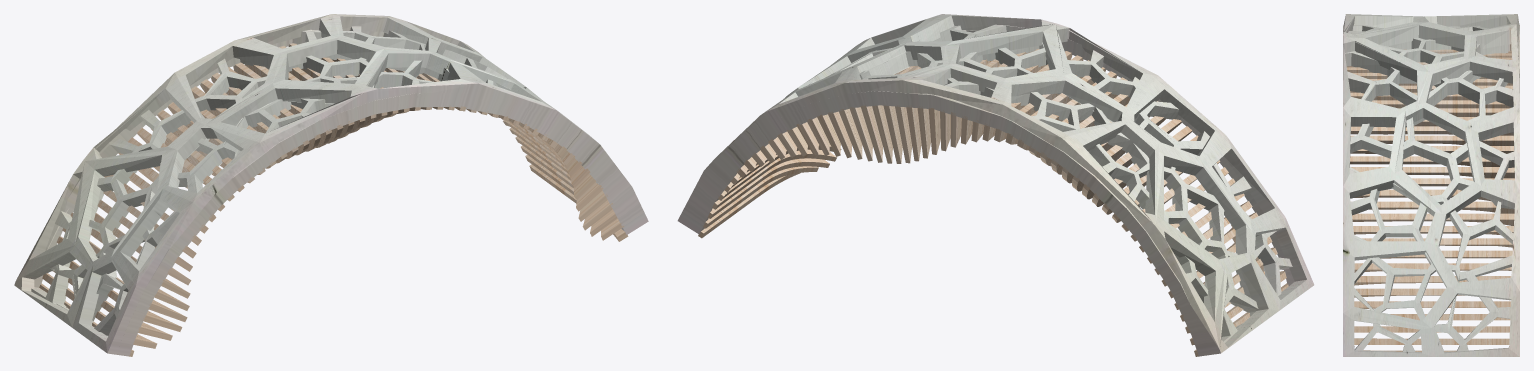
Rendered from prefinal.glb.
3 views of the same model, side by side, from view 1: azimuth 30°, elevation 25°; view 2: azimuth 150°, elevation 25°; view 3: azimuth 270°, elevation 25° (orthographic). The views are drawn at different scales.
Parts seen in each view (by area): view 1: [0]; view 2: [0]; view 3: [0].
Boxes of the visible parts, x1,y1,x2,y2 form: [0]: (14,14,648,356); [0]: (677,14,1314,356); [0]: (1343,14,1519,356).
Size of the model in its own units: 8.18 by 3.06 by 2.44.
2 materials, 2 textured.
